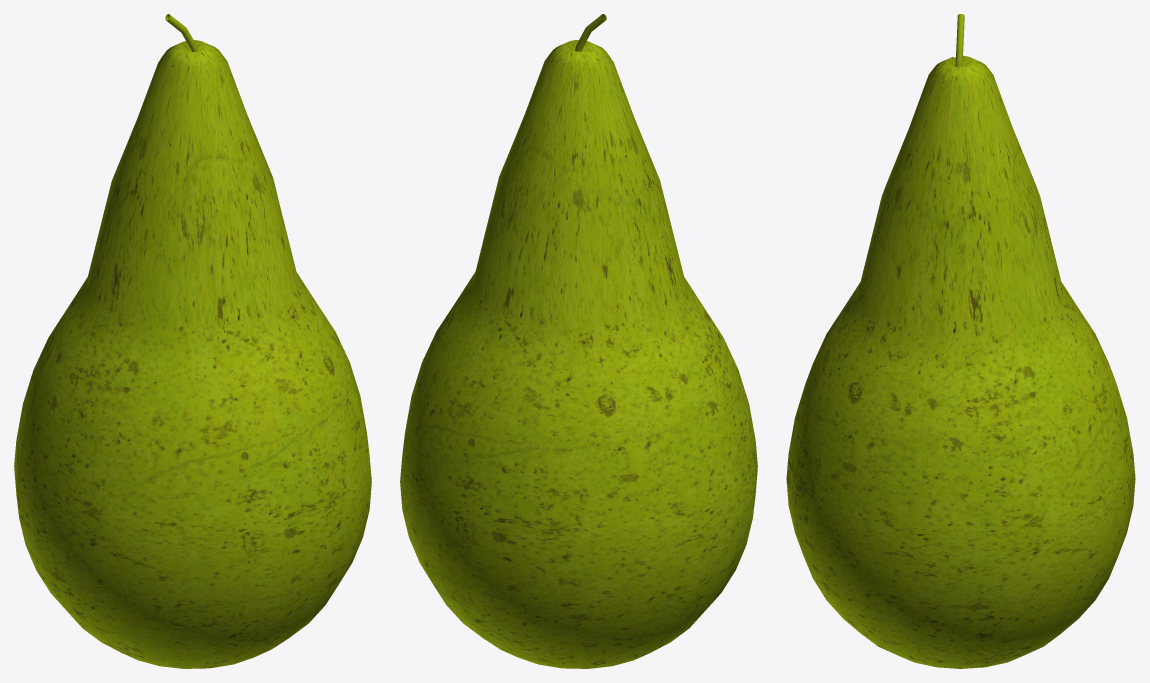
File: Pear.fbx
3 renders of one model, left to right at view 1: azimuth 30°, elevation 25°; view 2: azimuth 150°, elevation 25°; view 3: azimuth 270°, elevation 25°, orthographic. The views are drawn at different scales.
Parts seen in each view (by area): view 1: pSphere1; view 2: pSphere1; view 3: pSphere1.
Boxes of the visible parts, x1,y1,x2,y2 form: pSphere1: [14, 40, 371, 668]; pSphere1: [400, 40, 757, 668]; pSphere1: [786, 55, 1135, 668].
Bounding box in the file's own units: 3.77 × 7.45 × 3.74.
2 materials, 2 textured.
